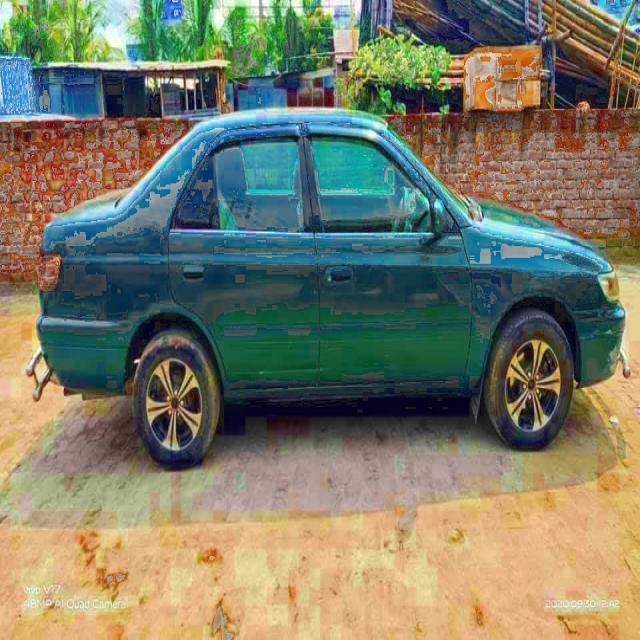green: (32, 99, 640, 430)
